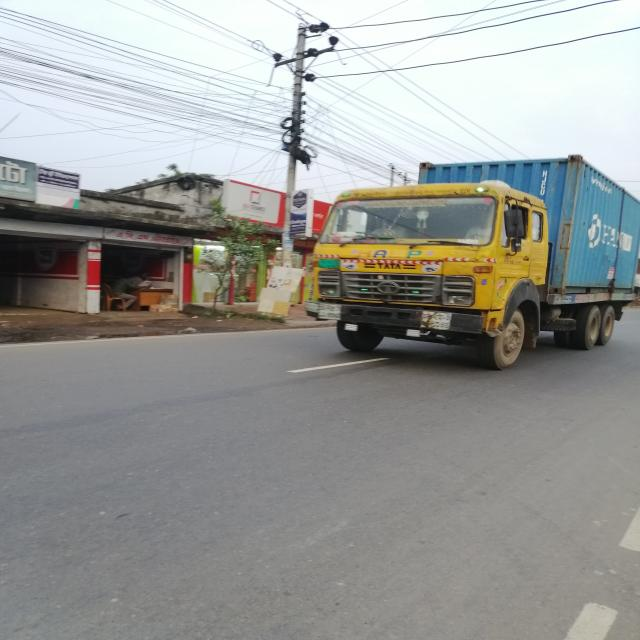Truck: (262, 136, 640, 396)
